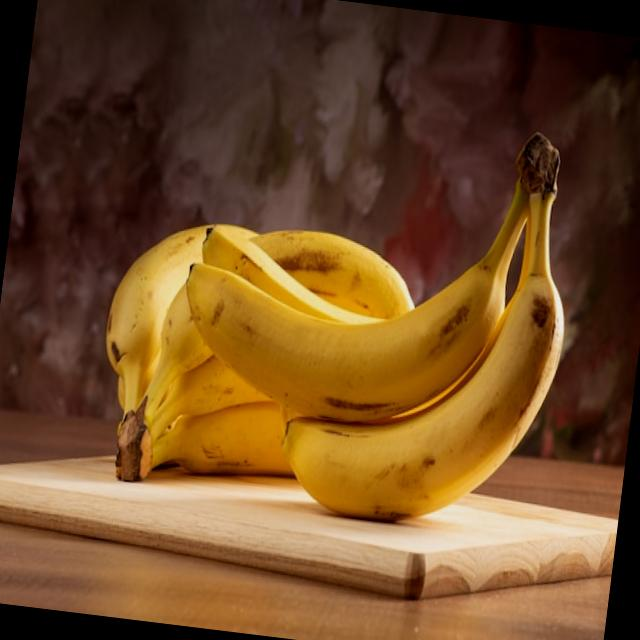Platano: (157, 85, 592, 546), (83, 201, 490, 534)
